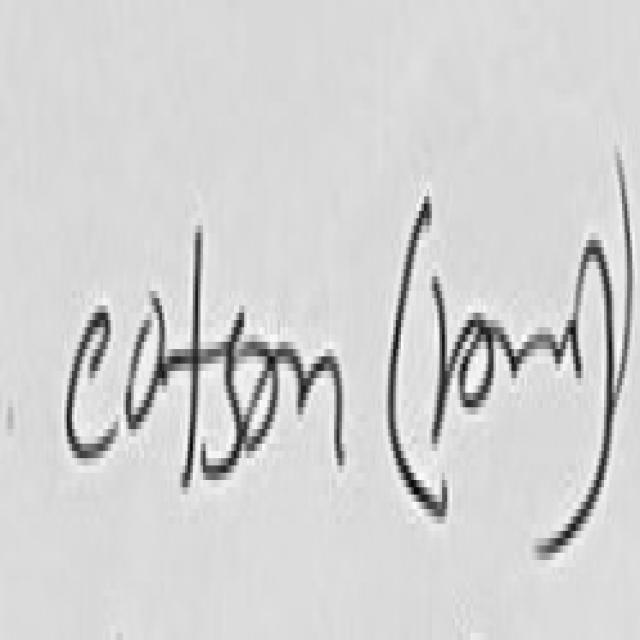0: (460, 327, 496, 407)
1: (434, 276, 450, 440)
C: (67, 313, 118, 458)
g: (540, 240, 619, 560)
m: (514, 320, 578, 375), (576, 349, 581, 371)
n: (290, 349, 344, 465)
o: (126, 298, 167, 429), (244, 356, 280, 451)
s: (203, 313, 247, 480)
t: (170, 233, 224, 487)
